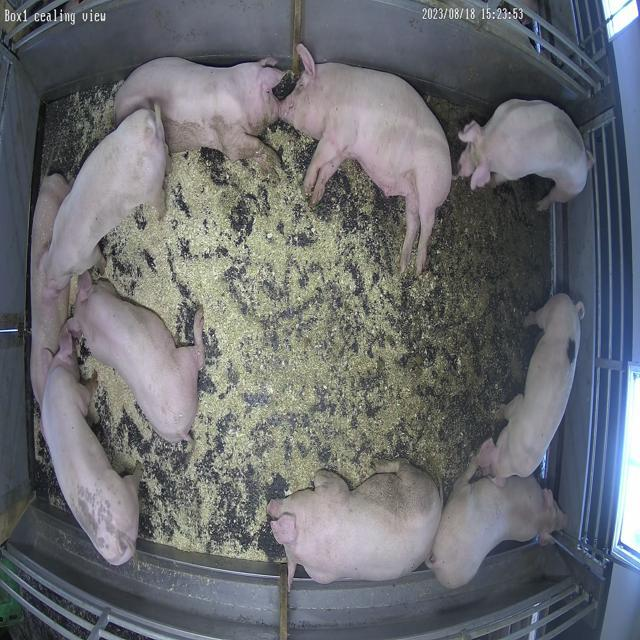Dirt: (400, 178, 550, 492), (342, 163, 405, 270), (427, 95, 481, 164)
Pig: (280, 44, 453, 272), (69, 273, 204, 442), (42, 331, 139, 566), (268, 462, 443, 588), (45, 109, 168, 288), (480, 295, 586, 484), (116, 57, 285, 160), (430, 463, 567, 590), (460, 98, 594, 210), (29, 174, 70, 404)
